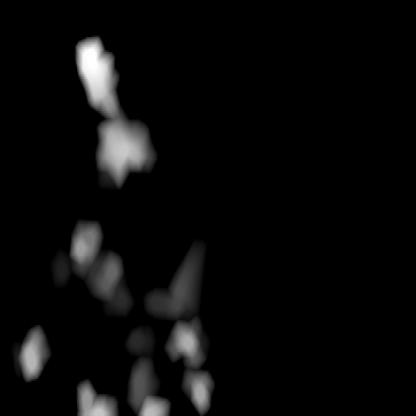fingers: (74, 36, 121, 112)
palm: (18, 318, 208, 414)
thumb: (69, 113, 201, 315)
